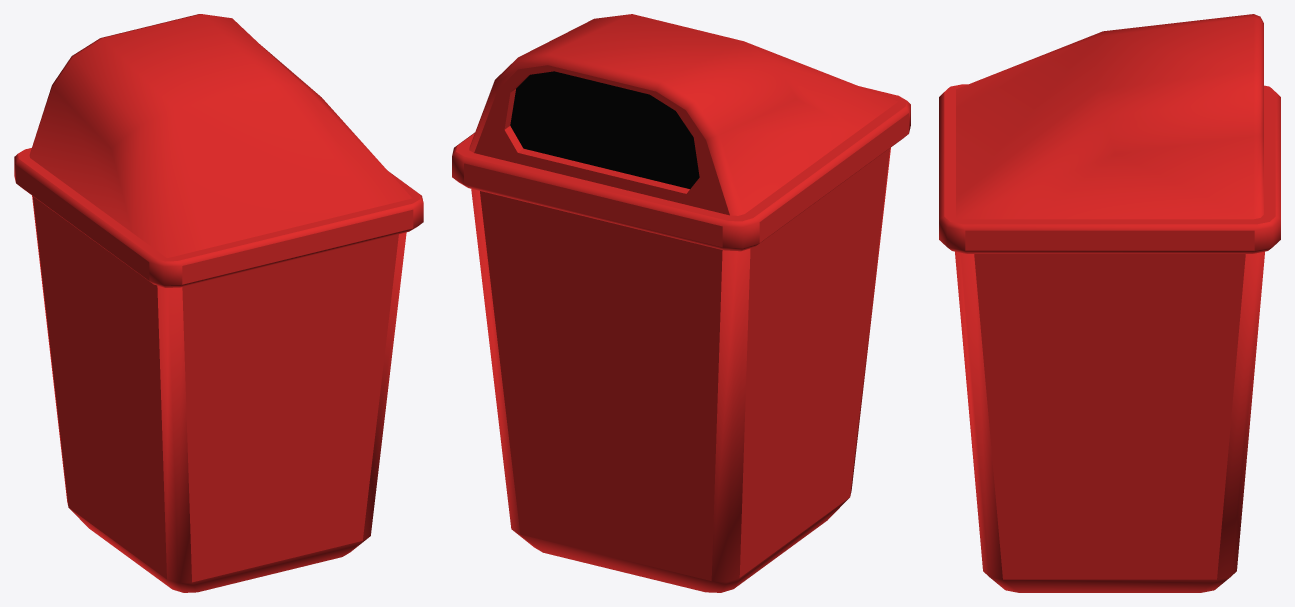
Rendered from Bin - Garbage.fbx.
The picture shows the model from 3 angles, left to right: view 1: azimuth 30°, elevation 25°; view 2: azimuth 150°, elevation 25°; view 3: azimuth 270°, elevation 25°; orthographic projection. The views are drawn at different scales.
Parts seen in each view (by area): view 1: Bin - Garbage; view 2: Bin - Garbage; view 3: Bin - Garbage.
Boxes of the visible parts, x1,y1,x2,y2 form: Bin - Garbage: [14, 14, 423, 592]; Bin - Garbage: [452, 14, 910, 592]; Bin - Garbage: [939, 14, 1280, 592].
Bounding box in the file's own units: 61.68 × 61.68 × 100.
